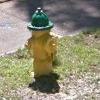a fire hydrant: (27, 14, 56, 83)
